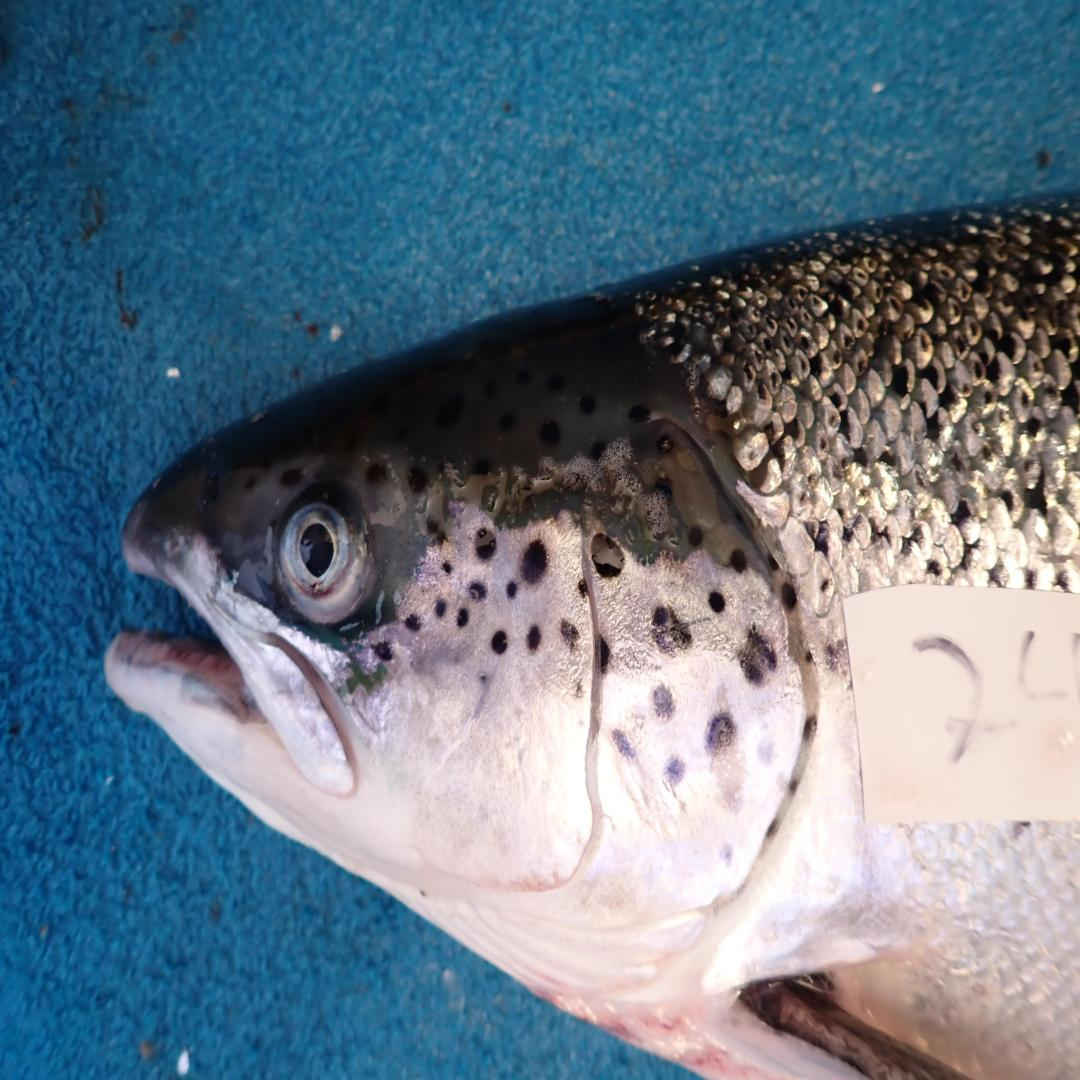spot: (738, 624, 778, 686), (652, 605, 692, 655), (591, 534, 624, 577), (707, 712, 736, 754), (521, 540, 546, 582), (567, 669, 591, 709), (652, 683, 675, 717), (475, 526, 496, 560), (612, 728, 635, 759), (664, 757, 686, 785), (559, 619, 578, 650), (599, 636, 612, 675), (781, 582, 797, 610), (730, 548, 747, 574), (491, 630, 508, 655), (527, 624, 542, 650), (758, 741, 774, 765), (468, 582, 487, 602), (373, 641, 392, 661), (709, 591, 726, 613), (688, 526, 705, 548), (803, 716, 817, 741), (405, 613, 422, 633), (435, 599, 447, 619), (458, 608, 468, 627), (506, 582, 517, 599), (578, 579, 589, 596), (722, 844, 732, 861), (443, 560, 454, 574)
